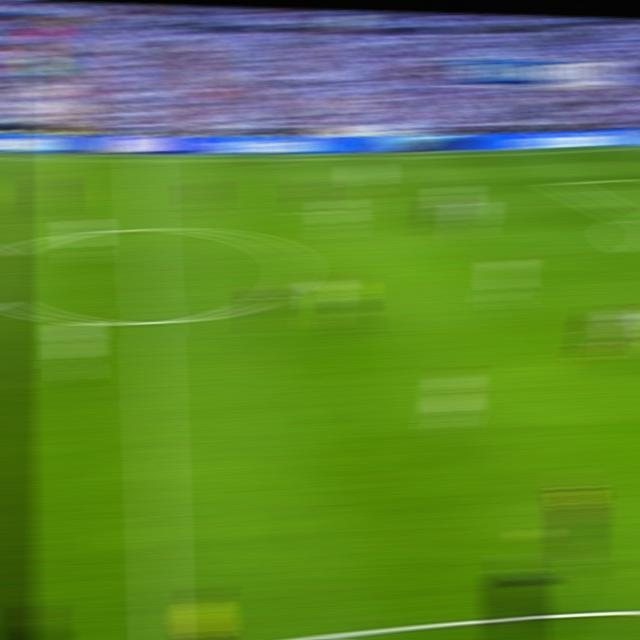halfcircle_bottom: (137, 307, 166, 336)
halfcircle_top: (132, 213, 163, 242)
midline_top_intersection: (132, 153, 158, 169)
top_arc_area_intersection: (619, 210, 640, 224)
